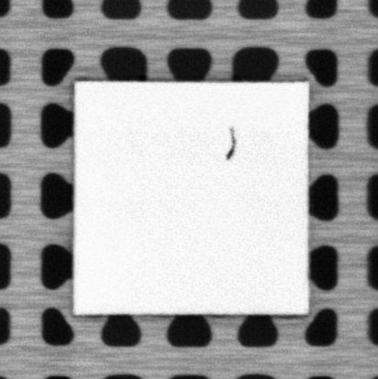DIE_INK: (224, 127, 237, 163)
